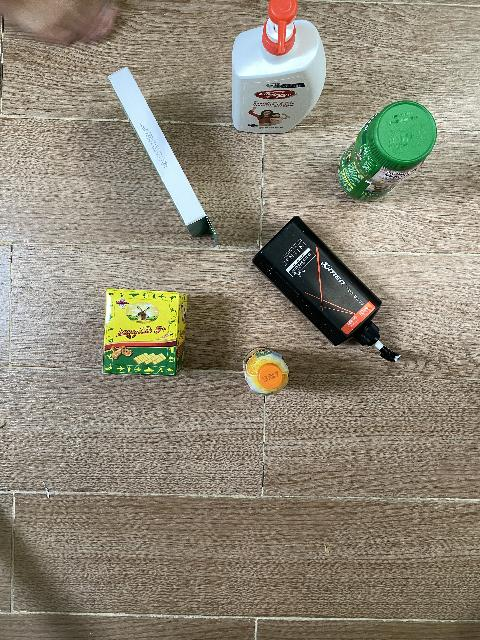4D_medical_face-mask: (108, 67, 218, 246)
X-men: (252, 216, 401, 362)
life-buoy: (232, 0, 326, 134)
luong_kho: (103, 289, 188, 376)
milo: (338, 100, 437, 201)
teppy_orange_juice: (242, 347, 289, 395)
